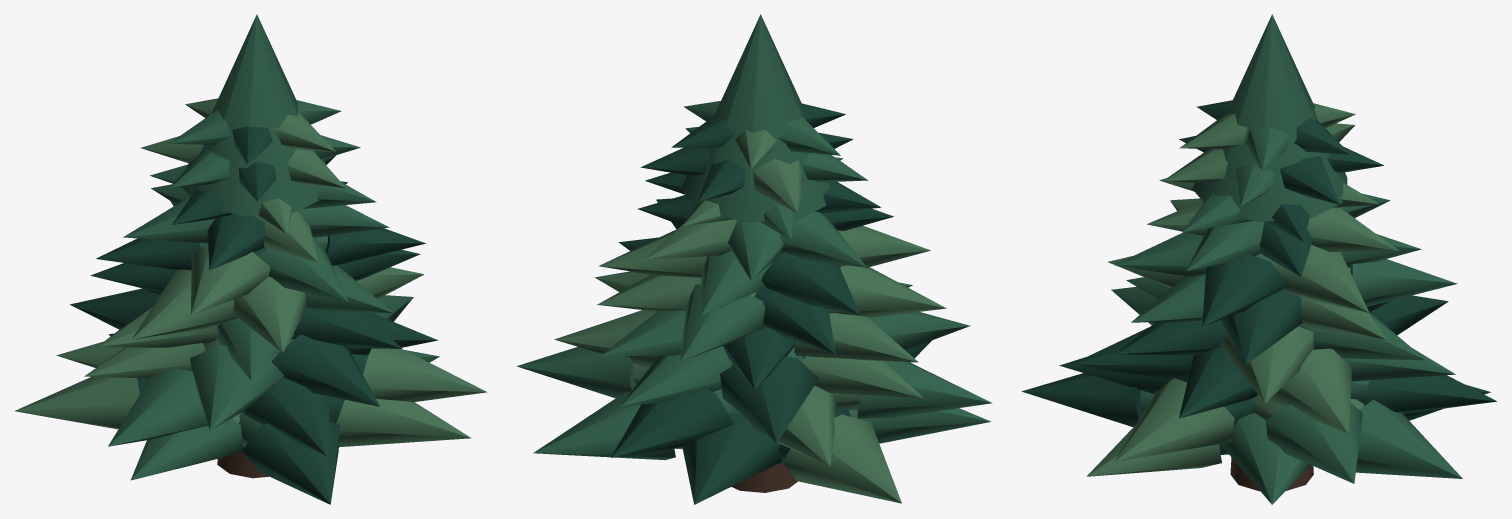
Rendered from storybook-pine-tall.glb.
The picture shows the model from 3 angles, left to right: view 1: azimuth 30°, elevation 25°; view 2: azimuth 150°, elevation 25°; view 3: azimuth 270°, elevation 25°; orthographic projection. The views are drawn at different scales.
Visible parts, largest first — view 1: Layered needle spray (×42), Pine crown, Tapered pine trunk; view 2: Layered needle spray (×41), Pine crown, Tapered pine trunk; view 3: Layered needle spray (×41), Pine crown, Tapered pine trunk.
Part boxes in pixels (x1,y1,x2,y2): Layered needle spray (×42): (14,100,487,504); Pine crown: (182,14,325,216); Tapered pine trunk: (217,447,268,478); Layered needle spray (×41): (517,103,992,504); Pine crown: (680,14,830,222); Tapered pine trunk: (731,463,797,492); Layered needle spray (×41): (1021,103,1497,504); Pine crown: (1192,14,1347,222); Tapered pine trunk: (1230,457,1313,491).
Bounding box in the file's own units: 0.9056 × 1 × 0.938.
